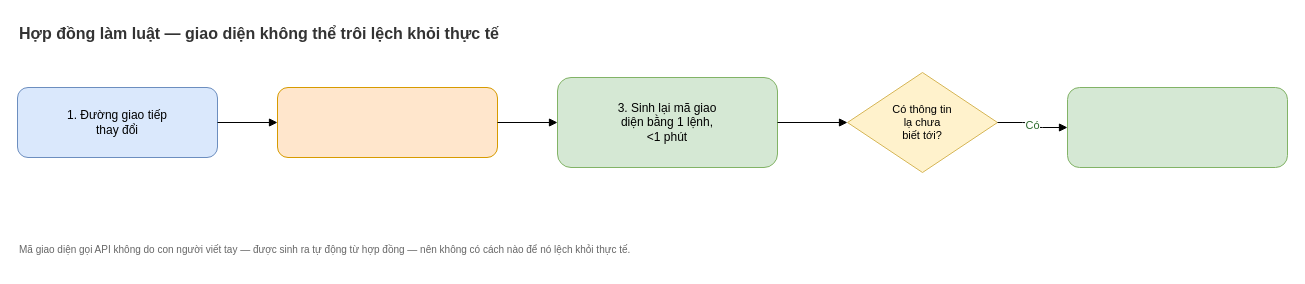
Image size: 1305x284. Some labels were removed from this diagram. The centre of each missing label's shape, as x and y in pixels:
2. Hợp đồng tự cập nhật theo thực tế: pixel 387 122
4. Vẫn hoạt động bình thường — không sập: pixel 1177 127
